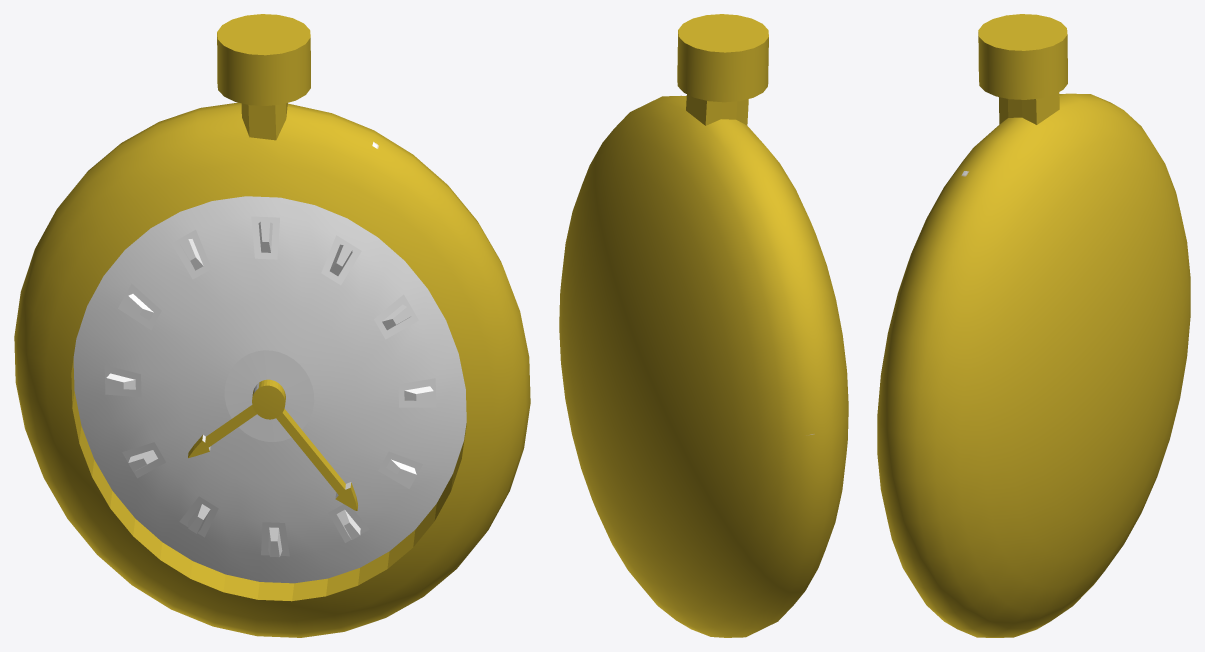
The model's file is clock.FBX.
The picture shows the model from 3 angles, left to right: view 1: azimuth 30°, elevation 25°; view 2: azimuth 150°, elevation 25°; view 3: azimuth 270°, elevation 25°; orthographic projection. The views are drawn at different scales.
Parts seen in each view (by area): view 1: Cylinder01; view 2: Cylinder01; view 3: Cylinder01.
Part boxes in pixels (box(x1,y1,x2,y2)): Cylinder01: box(14, 14, 530, 637); Cylinder01: box(559, 14, 848, 637); Cylinder01: box(877, 14, 1190, 637).
Size of the model in its own units: 17.54 by 26.37 by 12.9.
Materials: 1 (1 with a texture image).
